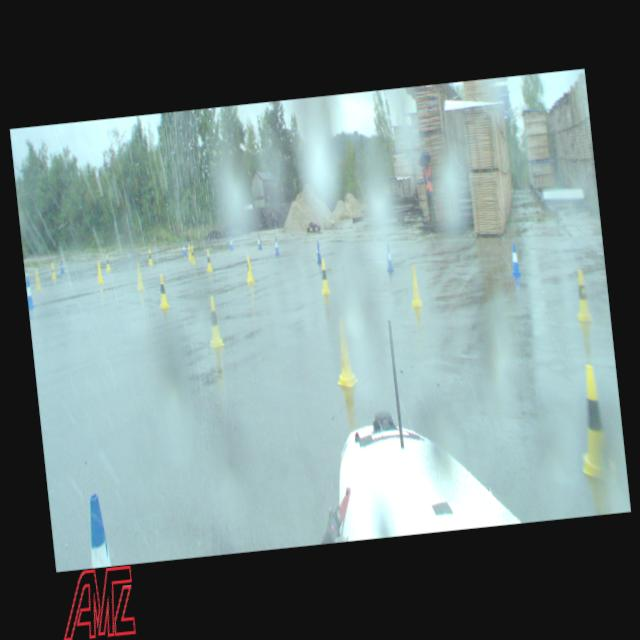blue_cone: (508, 242, 522, 278), (25, 276, 35, 308), (384, 244, 394, 272), (314, 240, 322, 264), (272, 236, 280, 253), (256, 233, 261, 249), (59, 258, 64, 274), (229, 235, 233, 250), (182, 242, 186, 256)
yellow_cone: (570, 362, 618, 484), (330, 316, 358, 389), (572, 268, 592, 323), (204, 294, 224, 348), (408, 263, 422, 307), (155, 272, 170, 310), (318, 258, 330, 294), (243, 254, 254, 282), (134, 261, 144, 290), (95, 260, 104, 284), (32, 268, 40, 290), (205, 248, 212, 272), (190, 246, 196, 264), (50, 262, 56, 279), (104, 253, 110, 270), (186, 243, 192, 260), (146, 249, 152, 265)
